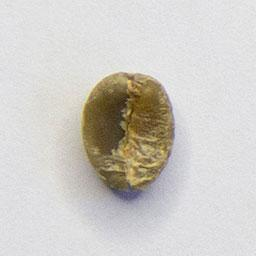premium: (78, 68, 178, 195)
